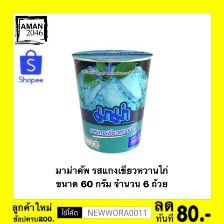paper_cup: (66, 46, 158, 156)
